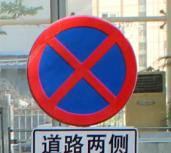No Parking: (28, 16, 141, 128)
